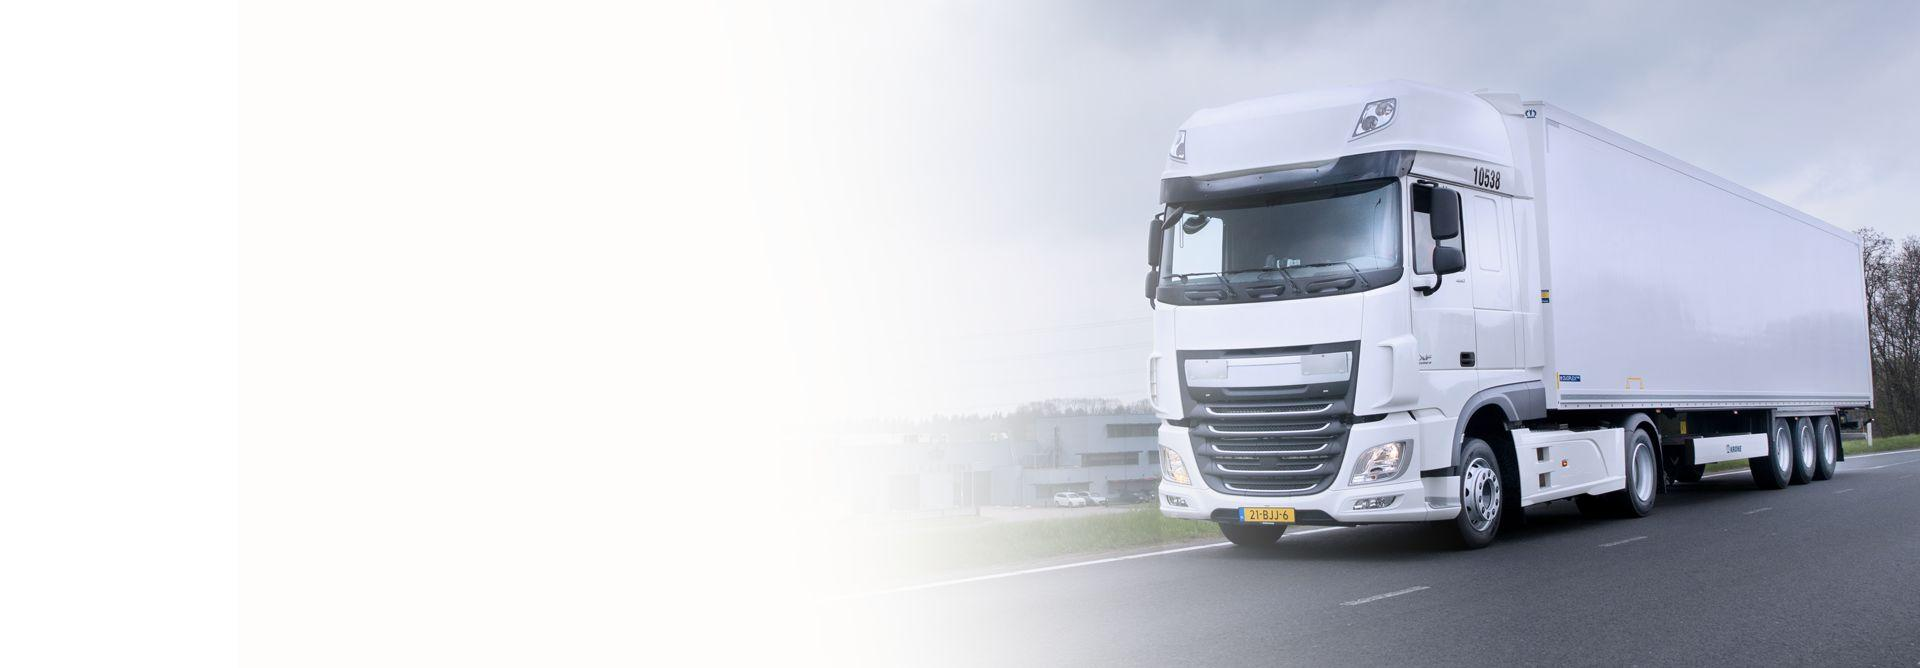truck: (1141, 87, 1877, 554)
